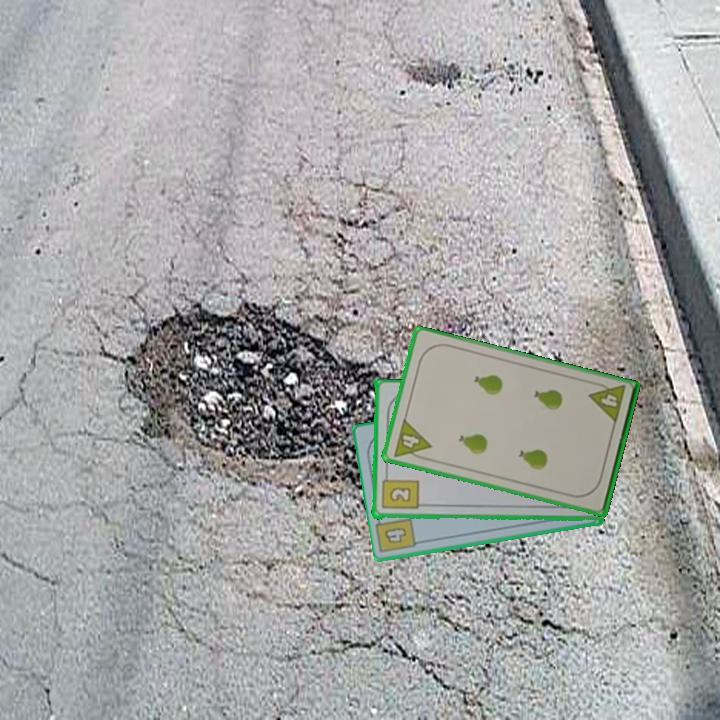2b: (378, 470, 420, 512)
4b: (381, 524, 409, 547)
4p: (390, 416, 434, 464), (586, 378, 628, 427)
